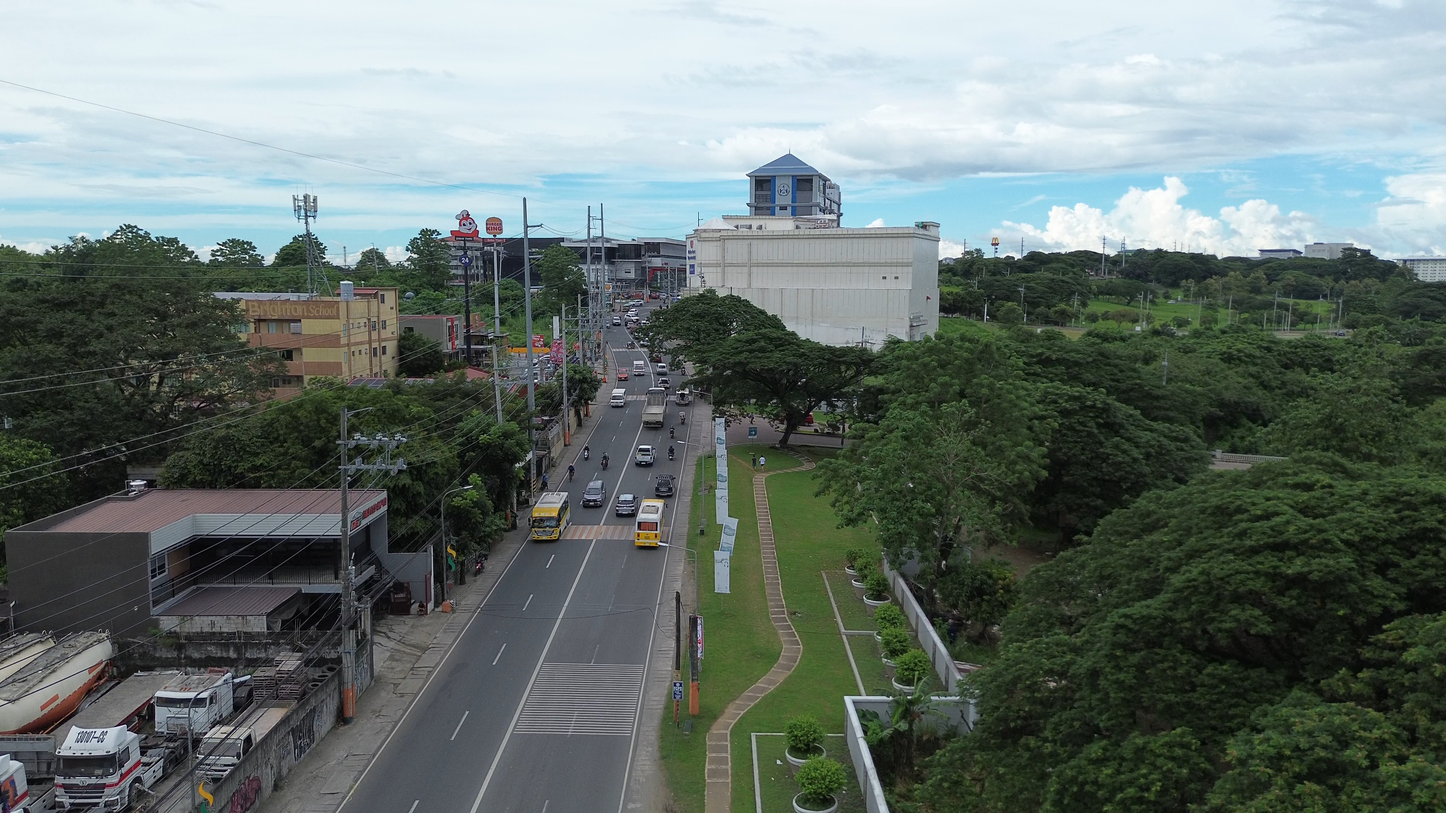bus: (531, 492, 569, 540), (635, 499, 665, 547)
car: (615, 494, 639, 516), (655, 473, 675, 497), (655, 356, 667, 374), (612, 315, 623, 326), (617, 369, 628, 379)
motorcycle: (601, 456, 609, 470), (583, 446, 590, 460), (668, 446, 674, 460), (679, 413, 685, 423)
truck: (196, 702, 293, 781), (0, 754, 55, 813)
vehicle: (0, 632, 113, 734), (55, 726, 166, 810), (193, 702, 294, 781), (155, 670, 233, 737), (195, 725, 256, 781), (0, 632, 55, 681), (642, 387, 667, 429), (581, 480, 605, 507), (635, 445, 654, 466), (609, 388, 626, 407), (675, 388, 691, 405), (632, 360, 647, 375), (656, 376, 670, 389), (656, 362, 668, 375), (617, 370, 629, 381), (612, 314, 622, 326)
